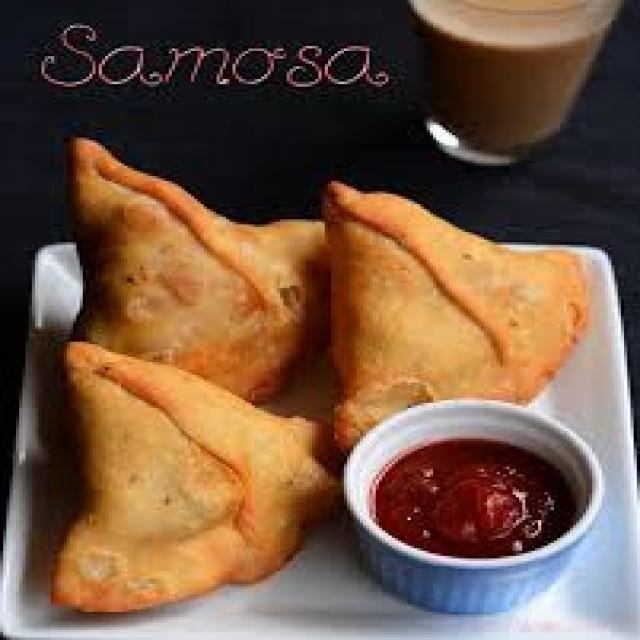SAMOSA: (54, 342, 334, 609), (325, 181, 586, 446), (70, 138, 322, 403), (280, 418, 315, 507)
